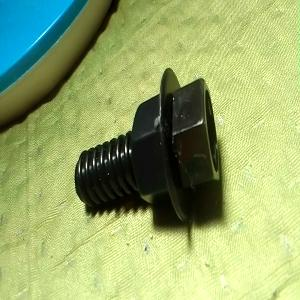parafuso: (72, 66, 224, 228)
